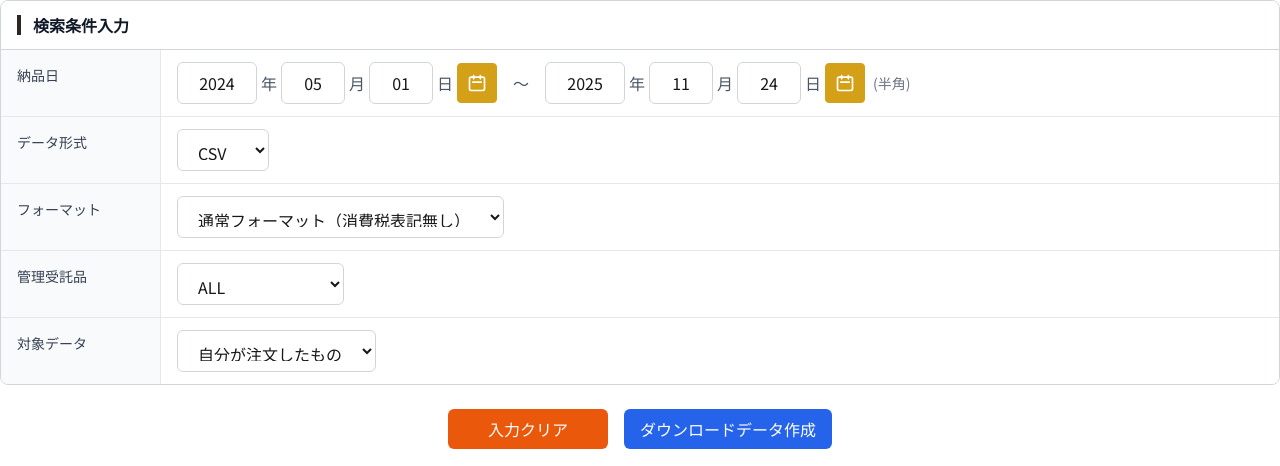
Scenario: PurchaseDataDownloadForm › 対象データを「指定コードの注文」に変更するとコード入力欄が表示される
The width and height of the screenshot is (1280, 466).
Note: 「指定コードの注文」を選択（対象データは4番目のセレクト、インデックス3）
Select "指定コードの注文" in the dropdown next to "対象データ" at (276, 351), box [177,330,376,372]
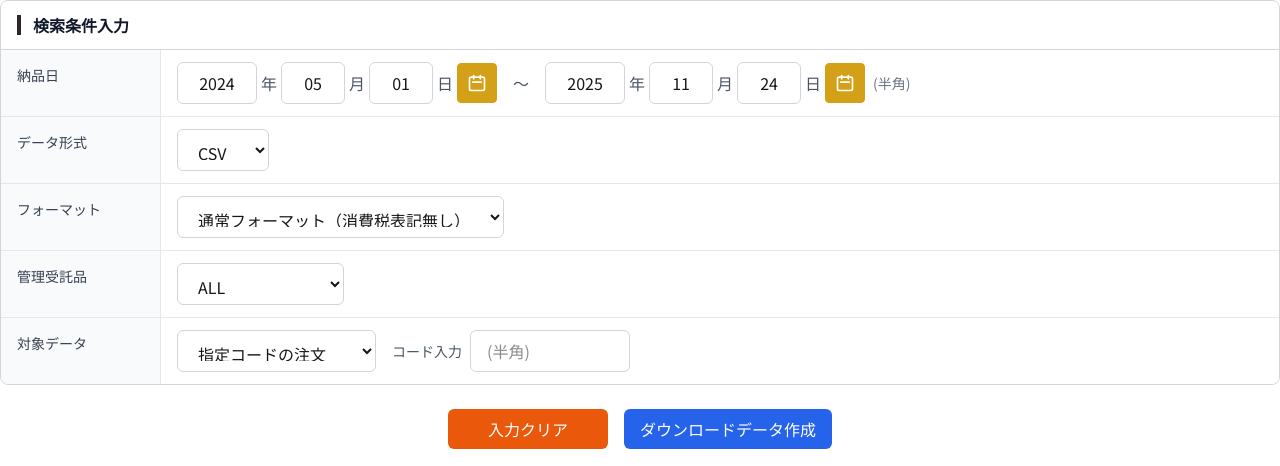
Check: the text "コード入力" is shown, box [392,341,462,361]
